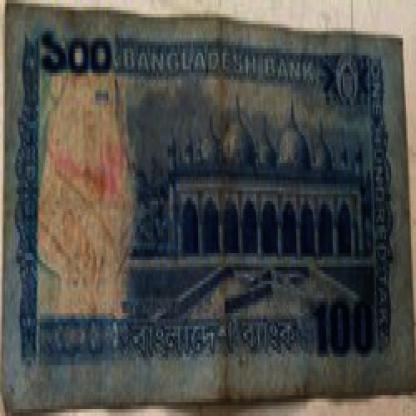one hundred taka: (33, 24, 115, 90), (313, 288, 374, 364)
